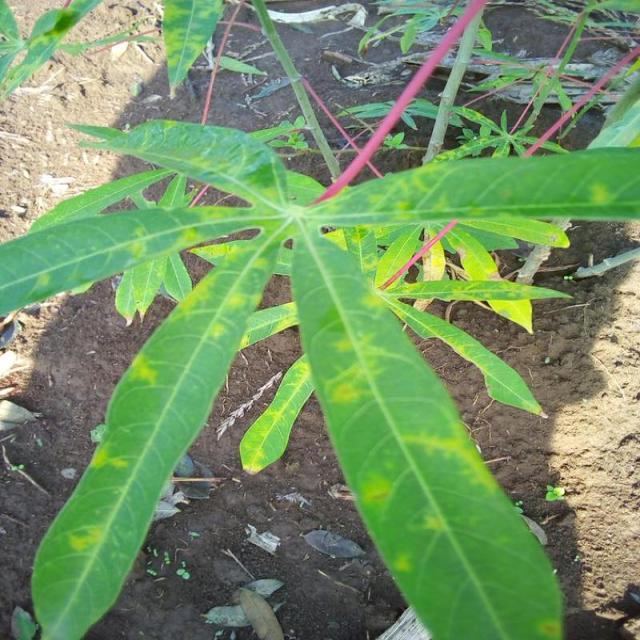cassava leaf: (2, 102, 637, 638), (289, 212, 565, 638)
